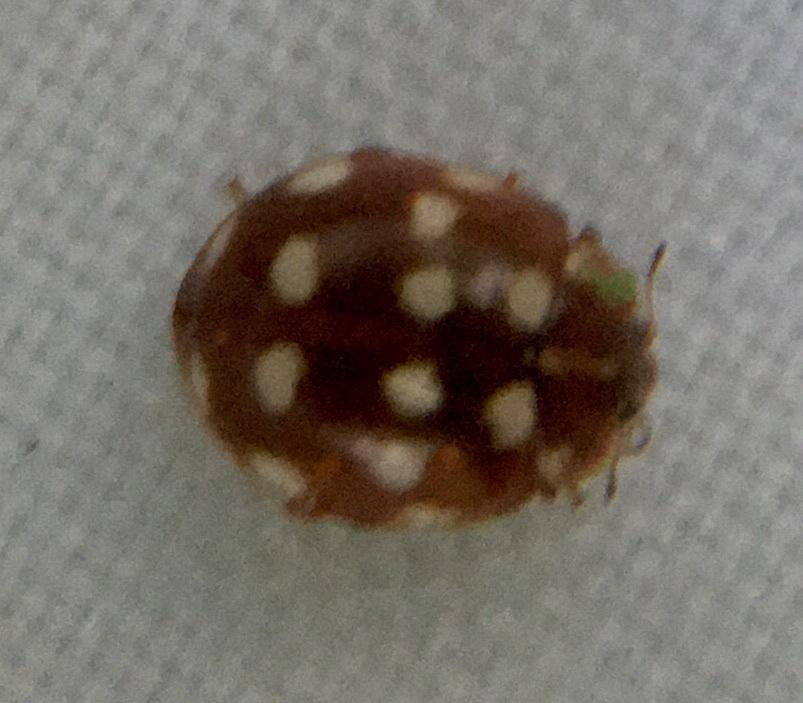ladybug: (171, 143, 671, 531)
